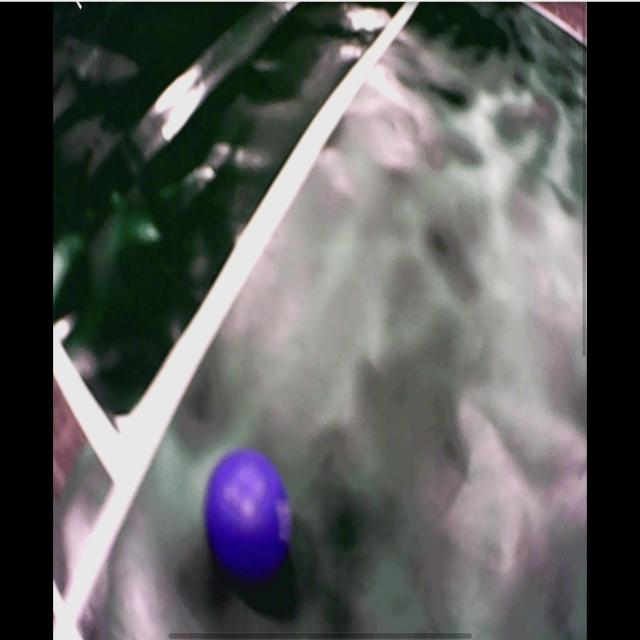ball: (204, 448, 294, 579)
